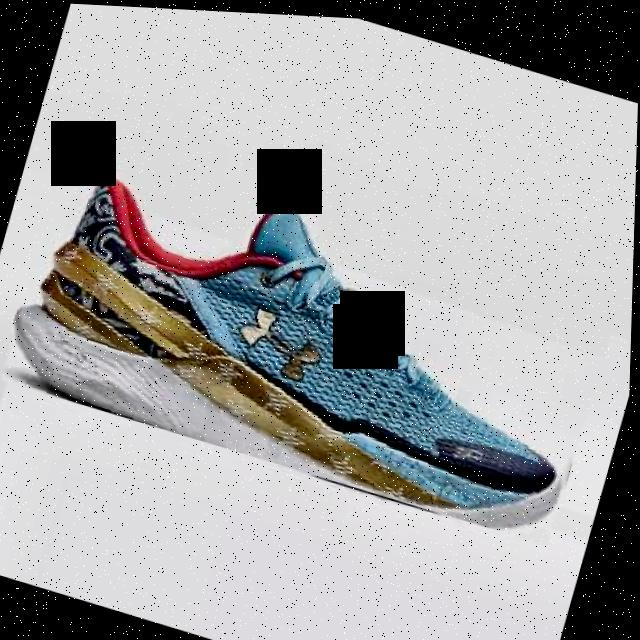shoe: (0, 117, 629, 543)
